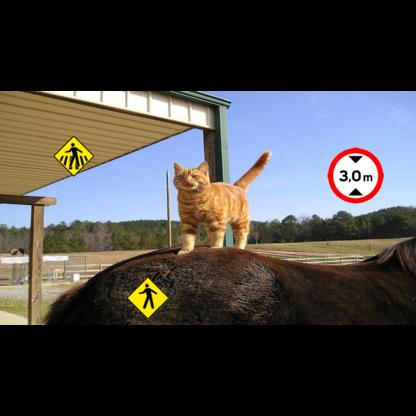A-32a: (126, 276, 169, 320)
A-32b: (53, 135, 94, 177)
R-15: (328, 148, 384, 203)
